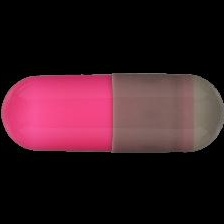63187-738: (0, 0, 224, 224)
